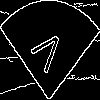V: (25, 25, 66, 81)
